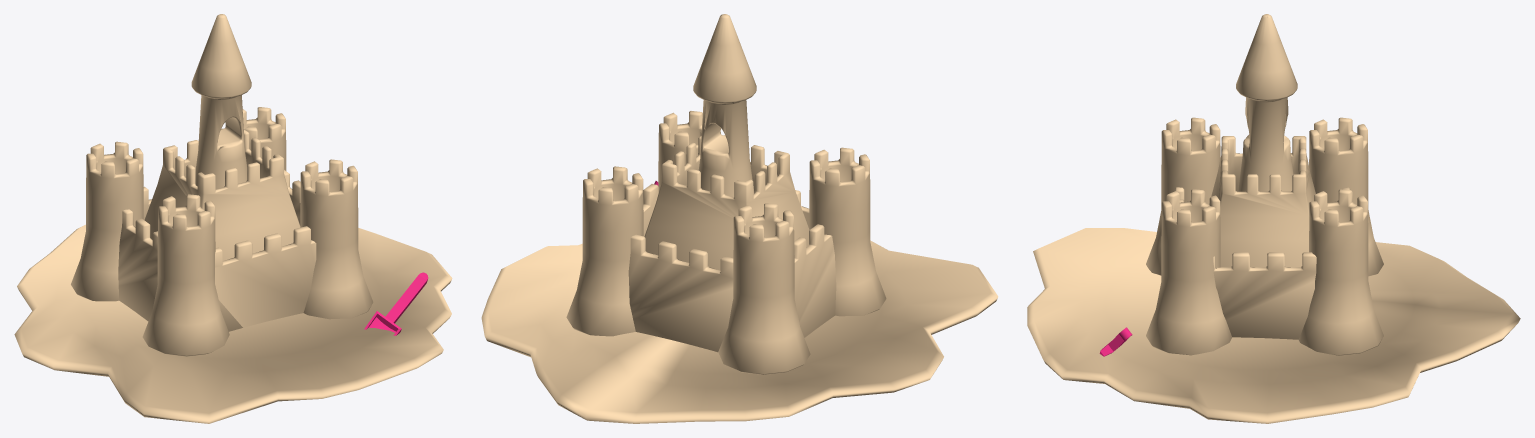
File: Sandcastle-GB.fbx
3 views of the same model, side by side, from view 1: azimuth 30°, elevation 25°; view 2: azimuth 150°, elevation 25°; view 3: azimuth 270°, elevation 25° (orthographic). The views are drawn at different scales.
Parts seen in each view (by area): view 1: Cylinder009; view 2: Cylinder009; view 3: Cylinder009.
Boxes of the visible parts, x1,y1,x2,y2 form: Cylinder009: (14, 14, 452, 423); Cylinder009: (481, 14, 998, 423); Cylinder009: (1027, 14, 1520, 423).
Size of the model in its own units: 282 by 199 by 286.
